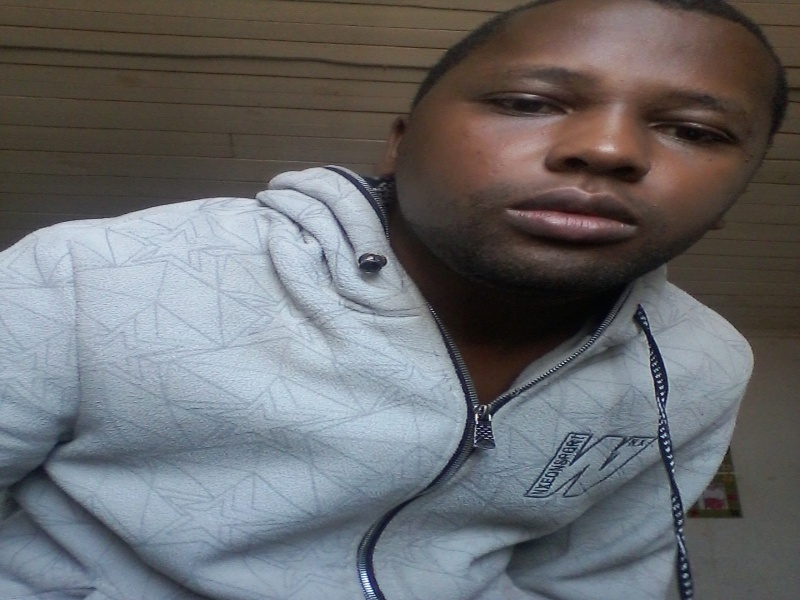TsisyArotava: (397, 16, 755, 308)
